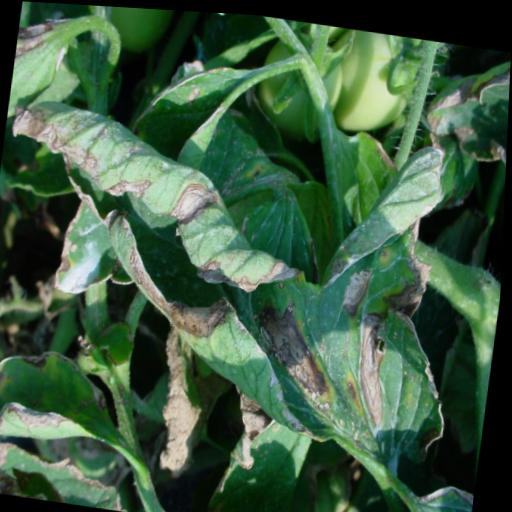Bacterial Spot: (0, 80, 483, 512), (0, 337, 133, 456)
